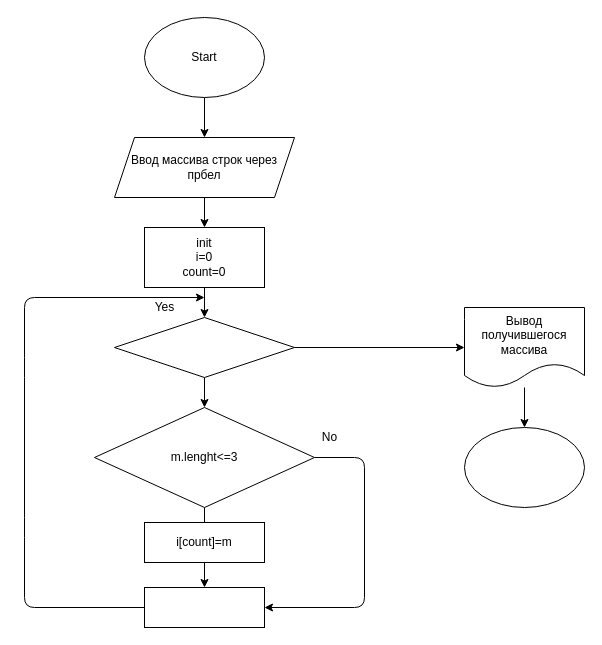
The diagram is 602 pixels wide and 645 high, and some of its shapes have lost their labels. Each missing label, with the centre of its shape:
"count++" goes at point (204, 607).
"End" goes at point (524, 467).
"i<count" goes at point (204, 347).
